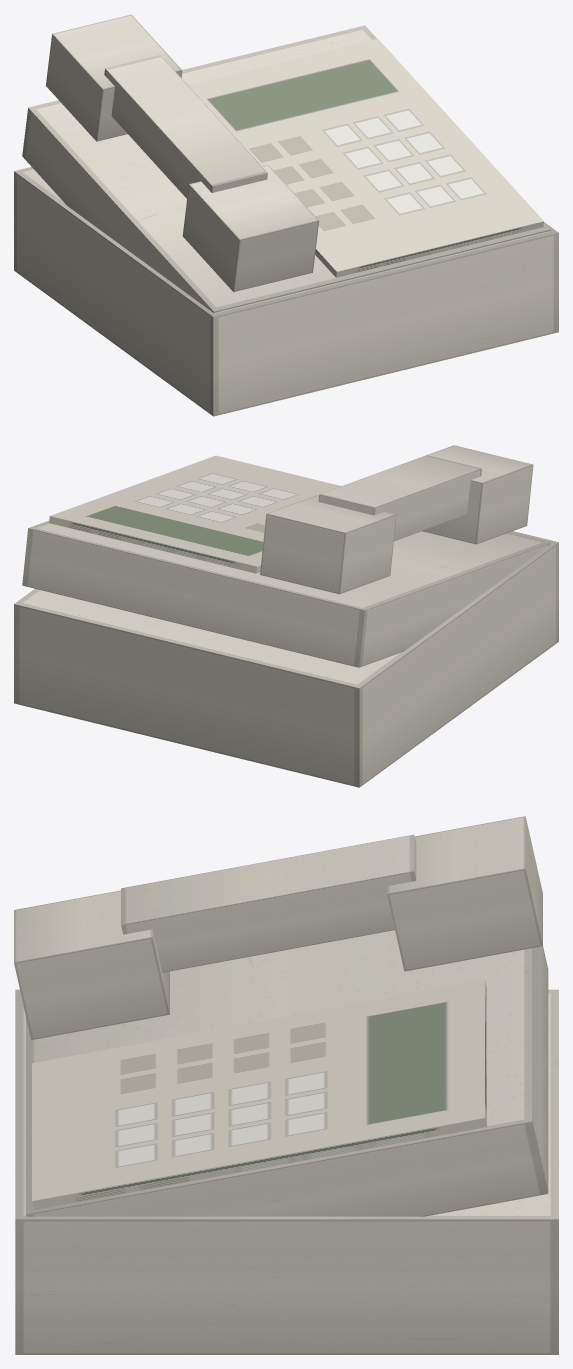
File: phone_office_white.glb
3 renders of one model, top to bottom at view 1: azimuth 30°, elevation 25°; view 2: azimuth 150°, elevation 25°; view 3: azimuth 270°, elevation 25°, orthographic. The views are drawn at different scales.
Parts seen in each view (by area): view 1: phone_office_white; view 2: phone_office_white; view 3: phone_office_white.
Part boxes in pixels (x1,y1,x2,y2): phone_office_white: (14,14,558,416); phone_office_white: (14,445,558,787); phone_office_white: (14,816,558,1354).
Size of the model in its own units: 0.2 by 0.1324 by 0.2004.
Materials: 2 (2 with a texture image).
